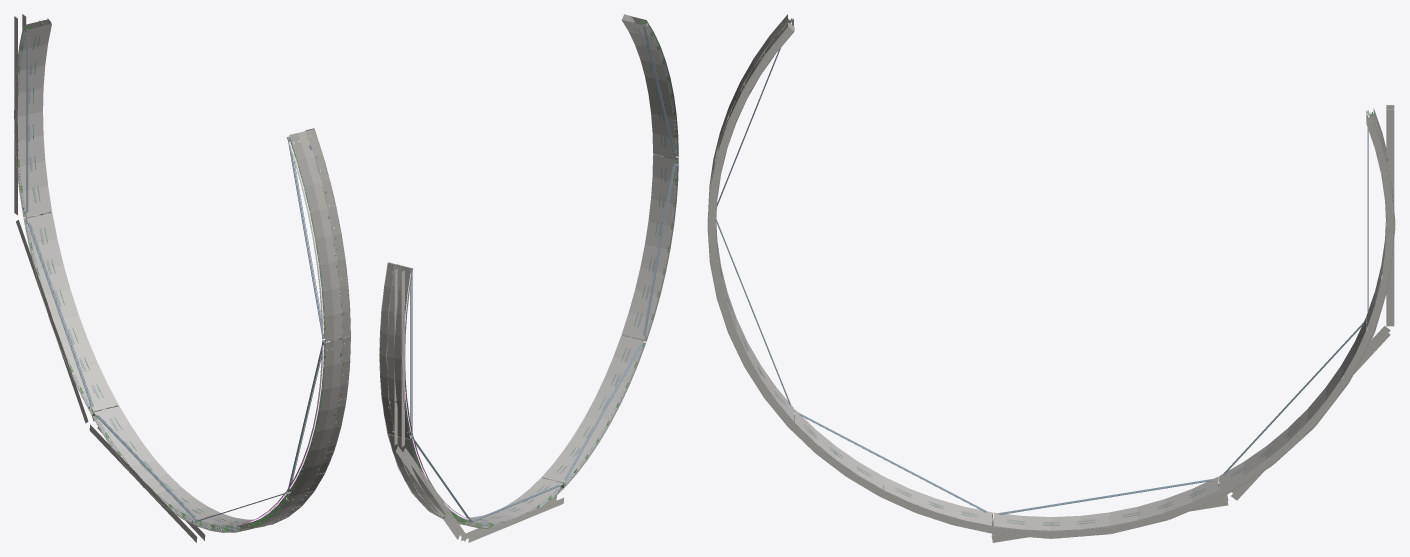
Rendered from xuanshu_interior_C28.glb.
The picture shows the model from 3 angles, left to right: view 1: azimuth 30°, elevation 25°; view 2: azimuth 150°, elevation 25°; view 3: azimuth 270°, elevation 25°; orthographic projection. The views are drawn at different scales.
Visible parts, largest first — view 1: UNIT-AGR-009, UNIT-AGR-008, UNIT-GEN-003; view 2: UNIT-AGR-008, UNIT-AGR-009, UNIT-GEN-003; view 3: UNIT-AGR-009, UNIT-AGR-008, UNIT-GEN-003.
Boxes of the visible parts, x1,y1,x2,y2 form: UNIT-AGR-009: (14, 18, 220, 526); UNIT-AGR-008: (197, 128, 350, 532); UNIT-GEN-003: (14, 14, 205, 542); UNIT-AGR-008: (542, 14, 678, 487); UNIT-AGR-009: (379, 262, 563, 528); UNIT-GEN-003: (393, 268, 563, 542); UNIT-AGR-009: (991, 108, 1395, 538); UNIT-AGR-008: (707, 14, 992, 533); UNIT-GEN-003: (991, 105, 1394, 542).
Bounding box in the file's own units: 13.31 × 239 × 283.
